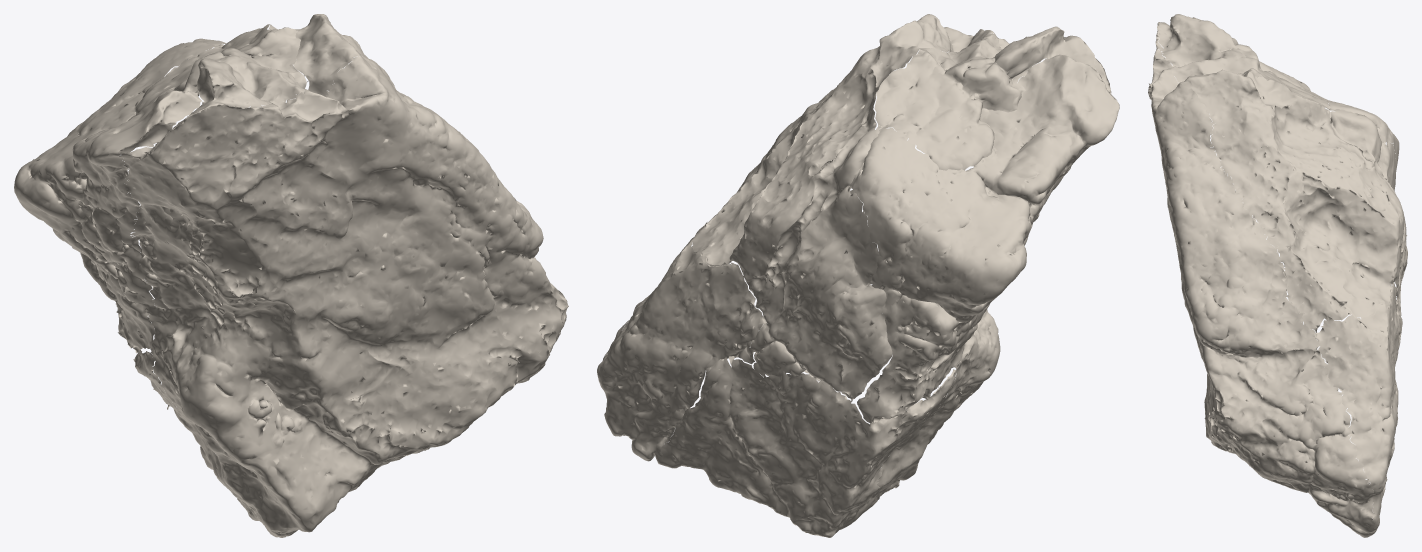
Rendered from rock_17_cand04.glb.
3 views of the same model, side by side, from view 1: azimuth 30°, elevation 25°; view 2: azimuth 150°, elevation 25°; view 3: azimuth 270°, elevation 25° (orthographic). The views are drawn at different scales.
Visible parts, largest first — view 1: world; view 2: world; view 3: world.
Boxes of the visible parts, x1,y1,x2,y2 form: world: [14, 14, 568, 537]; world: [597, 14, 1119, 537]; world: [1148, 14, 1407, 537].
Size of the model in its own units: 1.55 by 1.63 by 0.898.
